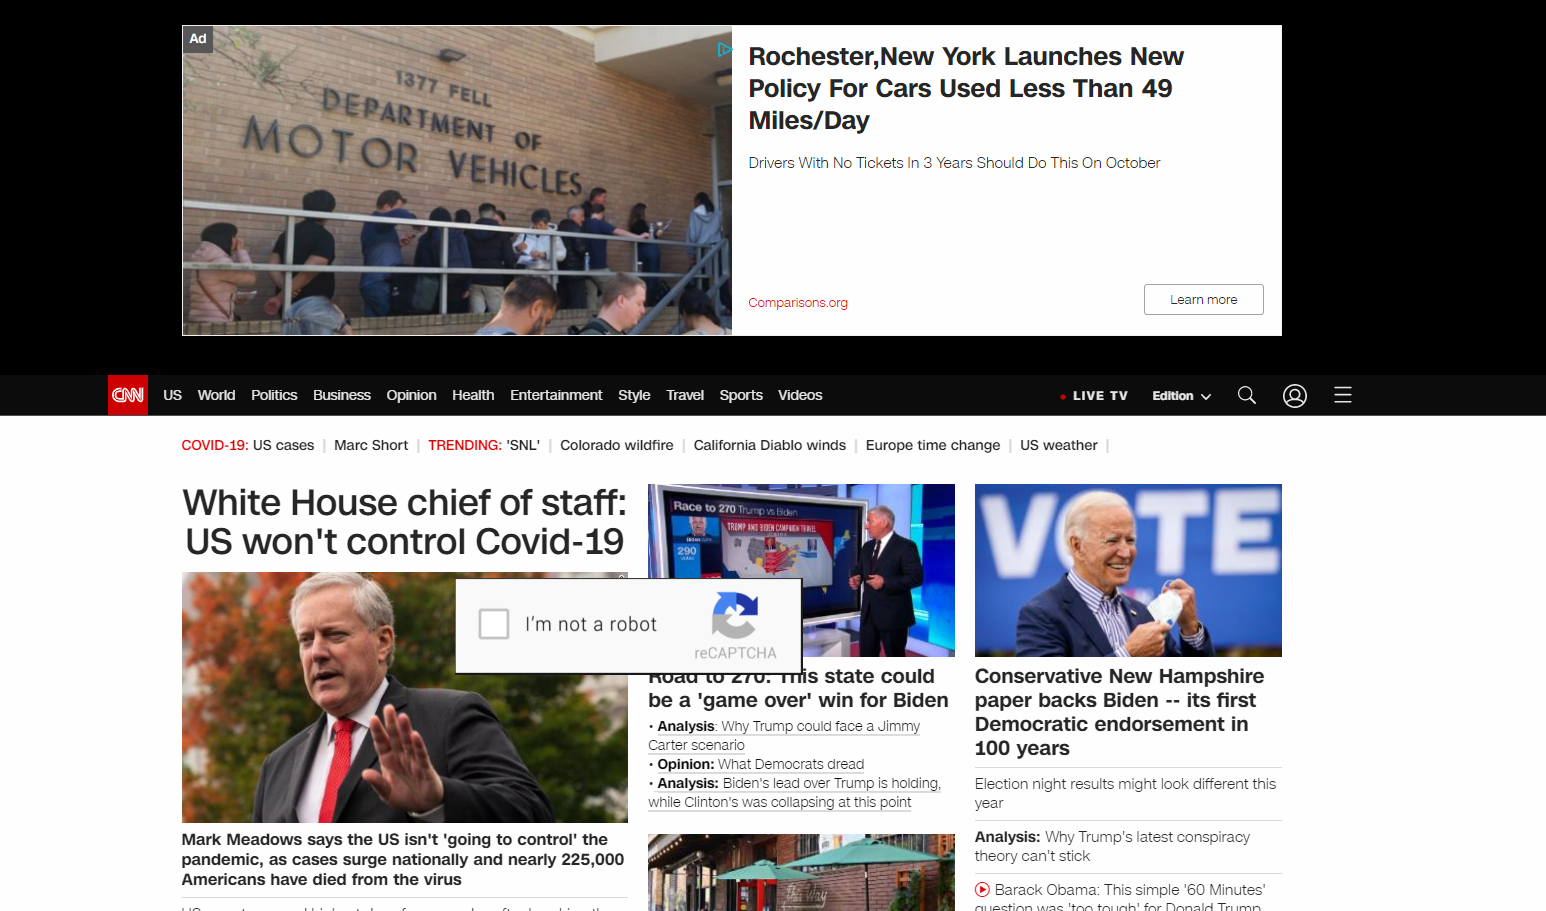captcha: (458, 579, 801, 672)
